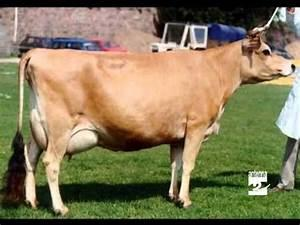cow: (13, 6, 296, 216)
